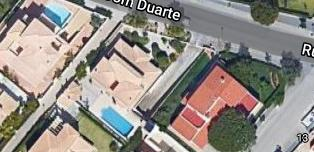pool: (99, 105, 134, 137), (41, 2, 72, 28)
